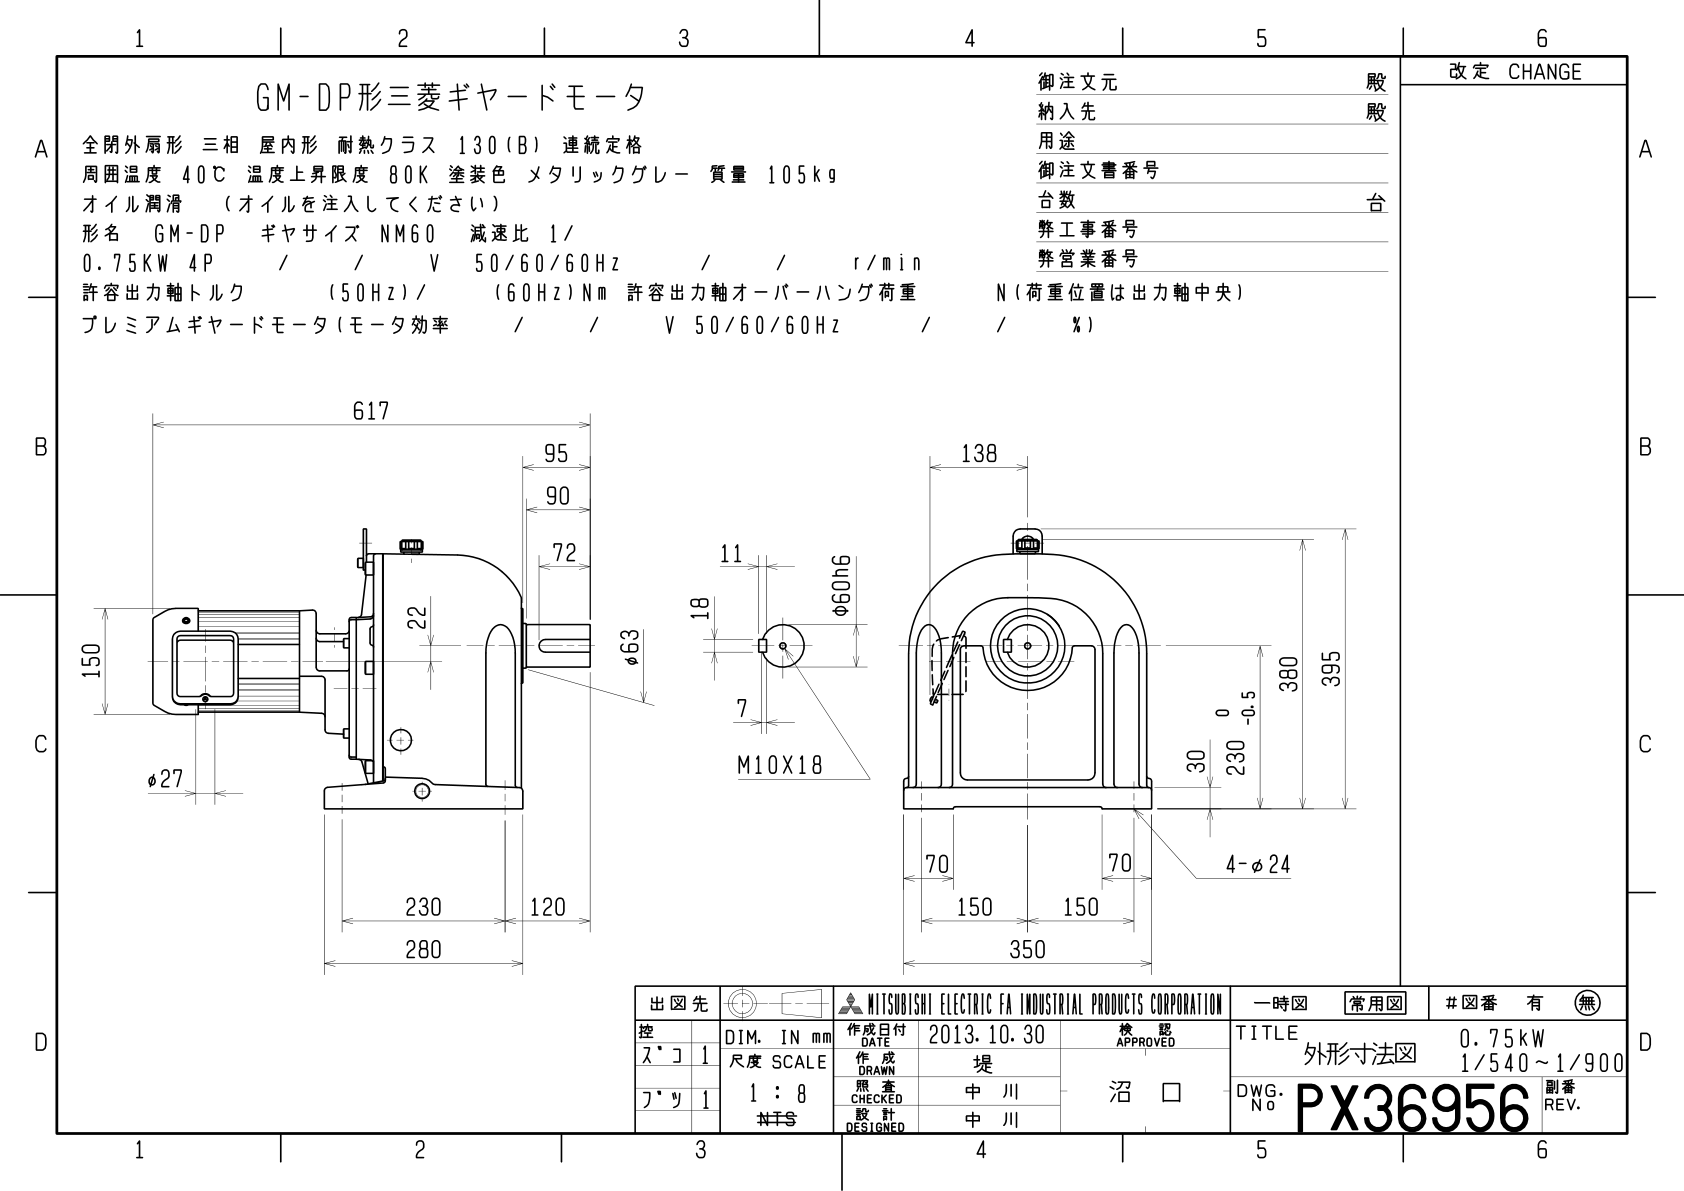GM_D_屋内＿三相_脚: (15, 8, 1670, 1191)
